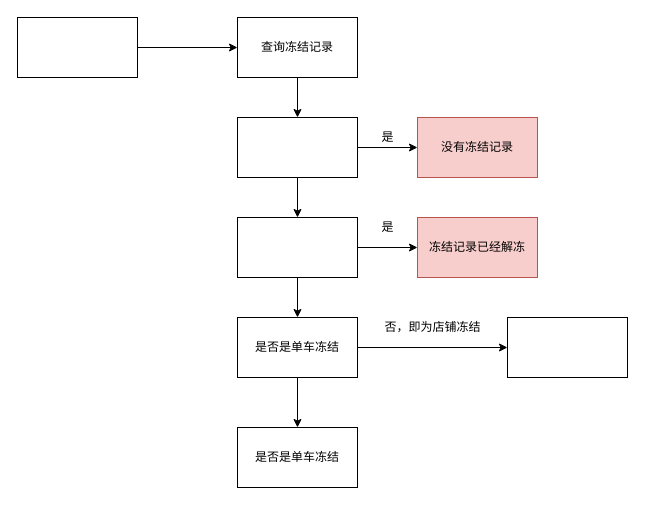
Image size: 645x505. Some labels were removed from this diagram. The shapes that lost their labels are listed below. From the top down, each one's centre as x and y in pixels, then its label:
At point (77, 47): "过户保证金解冻".
At point (297, 147): "冻结记录是否存在".
At point (297, 247): "冻结记录是否 已经解冻".
